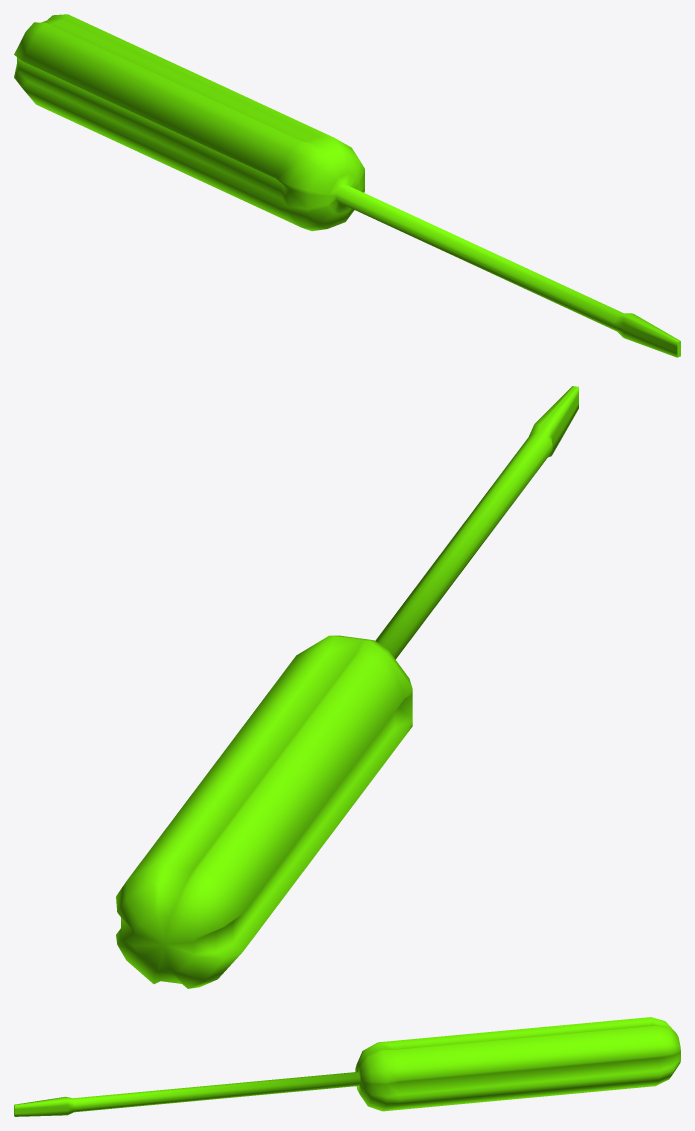
Rendered from ToyObject_029.fbx.
3 renders of one model, top to bottom at view 1: azimuth 30°, elevation 25°; view 2: azimuth 150°, elevation 25°; view 3: azimuth 270°, elevation 25°, orthographic. The views are drawn at different scales.
Visible parts, largest first — view 1: 1.039; view 2: 1.039; view 3: 1.039.
Part boxes in pixels (left/top/right/bottom): 1.039: left=14, top=14, right=680, bottom=357; 1.039: left=116, top=386, right=578, bottom=988; 1.039: left=14, top=1017, right=680, bottom=1116.
Bounding box in the file's own units: 0.0801 × 0.0306 × 0.3063.
